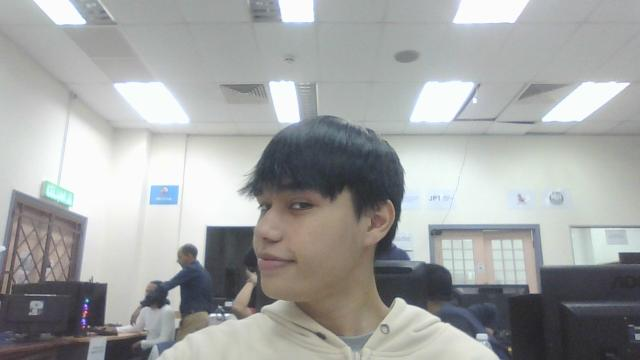senang: (240, 112, 385, 294)
